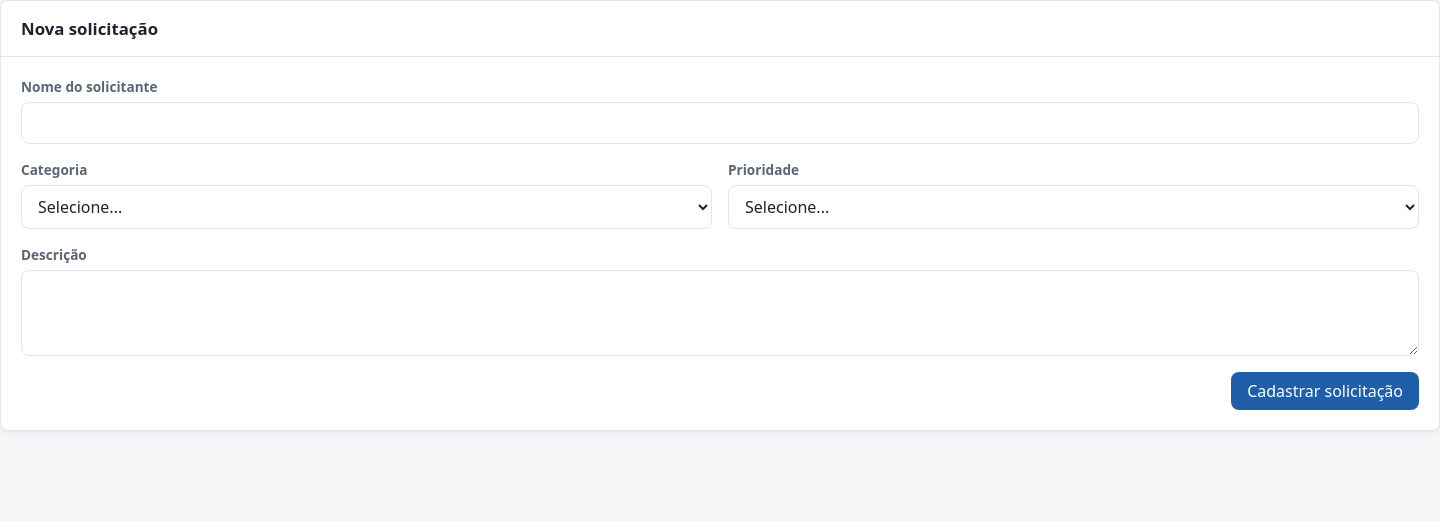
Test case: FormularioSolicitacao › nao envia nada quando os campos obrigatorios estao vazios
Click the button "Cadastrar solicitação" at (1325, 391), box [1231,372,1419,410]
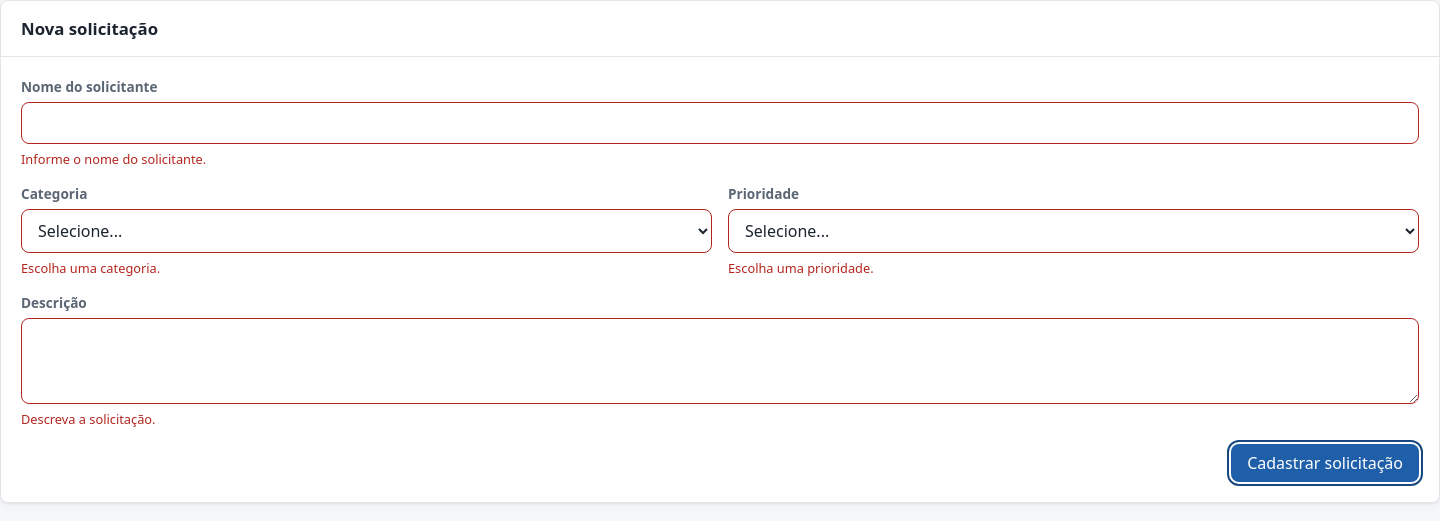
Result: the text "Informe o nome do solicitante." is shown at [21,150,206,168]
Result: the text "Escolha uma categoria." is shown at [21,259,160,277]
